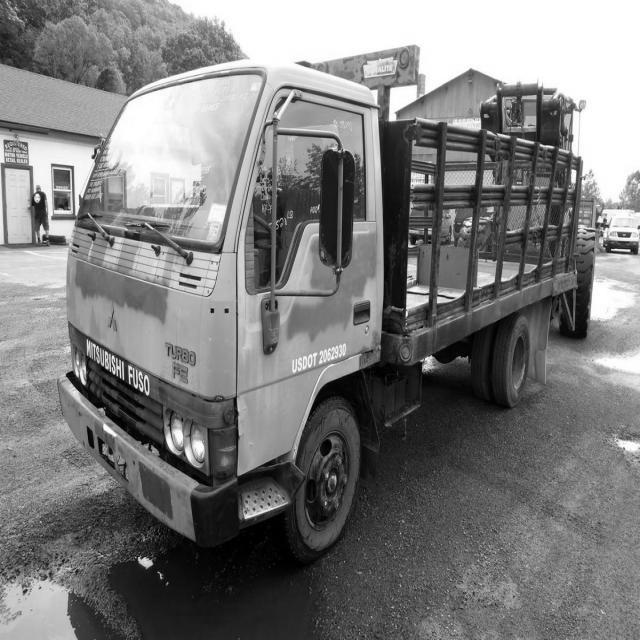truck: (44, 47, 426, 566)
